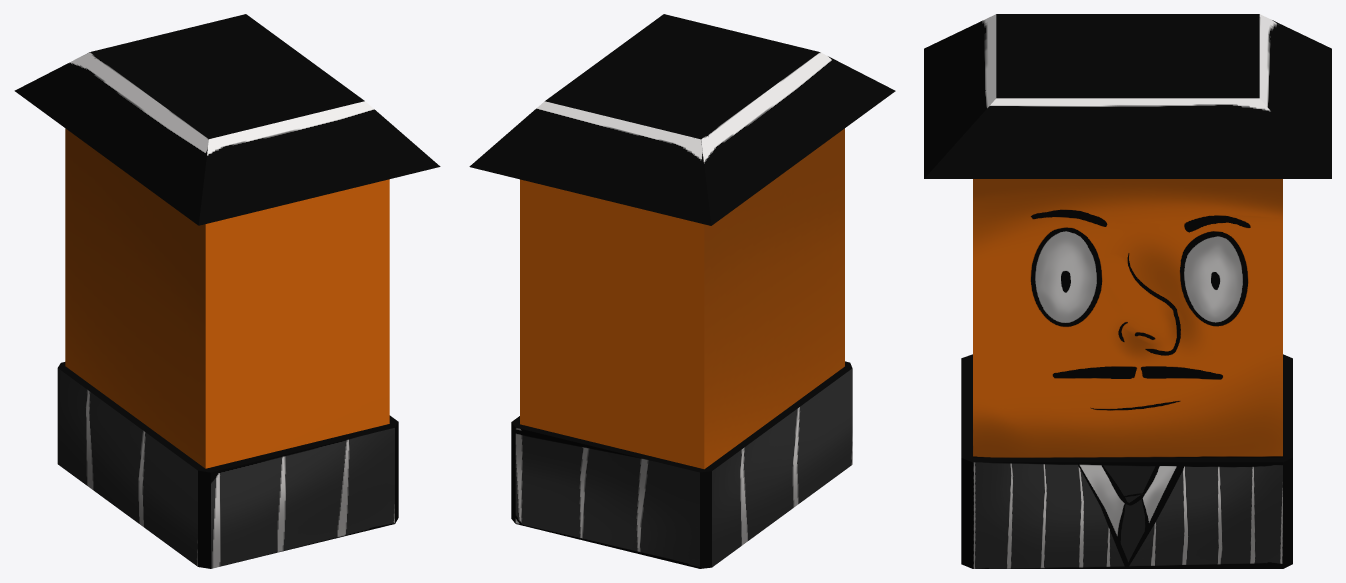
Rendered from rectangulin.glb.
The picture shows the model from 3 angles, left to right: view 1: azimuth 30°, elevation 25°; view 2: azimuth 150°, elevation 25°; view 3: azimuth 270°, elevation 25°; orthographic projection. The views are drawn at different scales.
Parts seen in each view (by area): view 1: Rectangulin; view 2: Rectangulin; view 3: Rectangulin.
Boxes of the visible parts, left/top/right/bottom form: Rectangulin: left=14, top=14, right=440, bottom=568; Rectangulin: left=469, top=14, right=895, bottom=568; Rectangulin: left=924, top=14, right=1331, bottom=568.
Size of the model in its own units: 8.6 by 14.09 by 11.35.
1 material, 1 textured.
